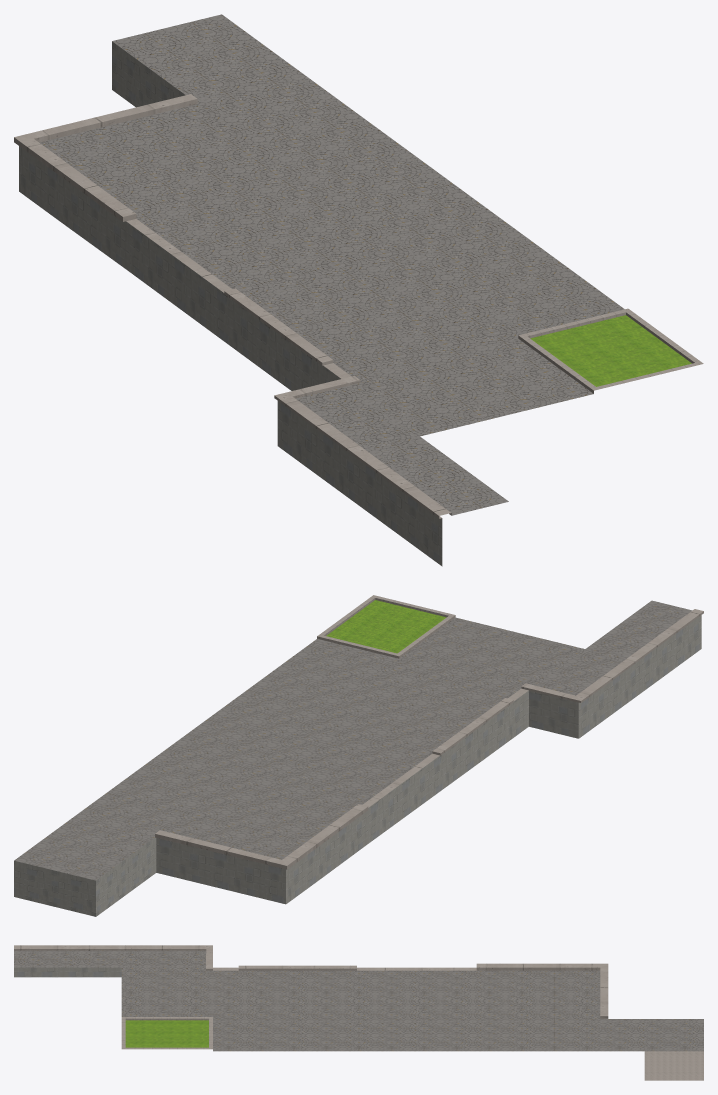
The model's file is TownGroundTile_G.fbx.
3 views of the same model, one above another, from view 1: azimuth 30°, elevation 25°; view 2: azimuth 150°, elevation 25°; view 3: azimuth 270°, elevation 25° (orthographic). The views are drawn at different scales.
Visible parts, largest first — view 1: TownGroundTile_G; view 2: TownGroundTile_G; view 3: TownGroundTile_G.
Boxes of the visible parts, x1,y1,x2,y2 form: TownGroundTile_G: (14, 14, 703, 566); TownGroundTile_G: (14, 595, 703, 916); TownGroundTile_G: (14, 945, 703, 1080).
Size of the model in its own units: 3846 by 557 by 10750.
4 materials, 4 textured.
